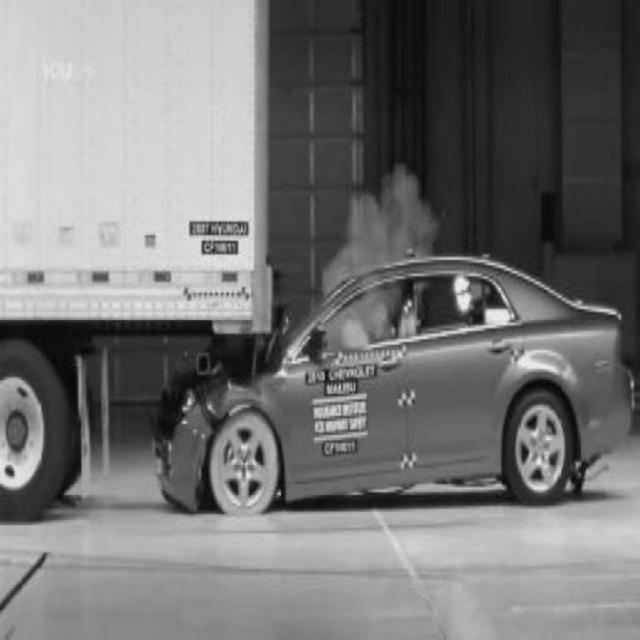accident: (4, 107, 640, 497)
